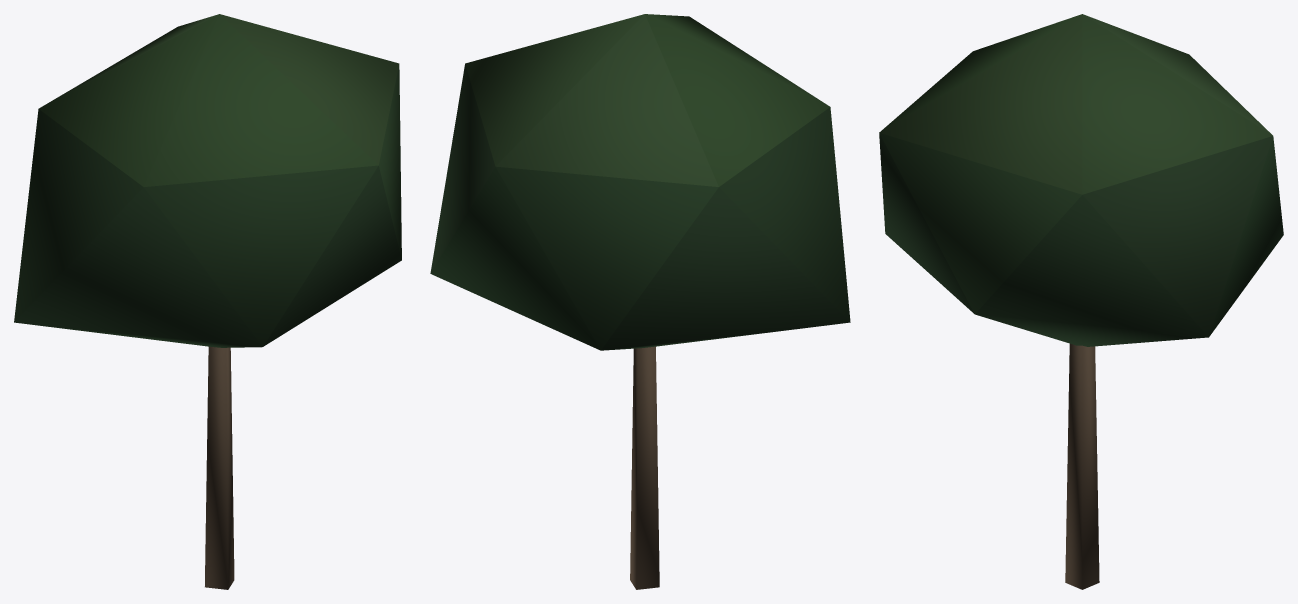
The model's file is env_ea_far.glb.
3 renders of one model, left to right at view 1: azimuth 30°, elevation 25°; view 2: azimuth 150°, elevation 25°; view 3: azimuth 270°, elevation 25°, orthographic.
Parts seen in each view (by area): view 1: env_ea_far; view 2: env_ea_far; view 3: env_ea_far.
Part boxes in pixels (bbox=[...]): env_ea_far: bbox=[14, 14, 401, 589]; env_ea_far: bbox=[430, 14, 850, 589]; env_ea_far: bbox=[879, 14, 1283, 589].
Bounding box in the file's own units: 9.09 × 12.84 × 8.28.
